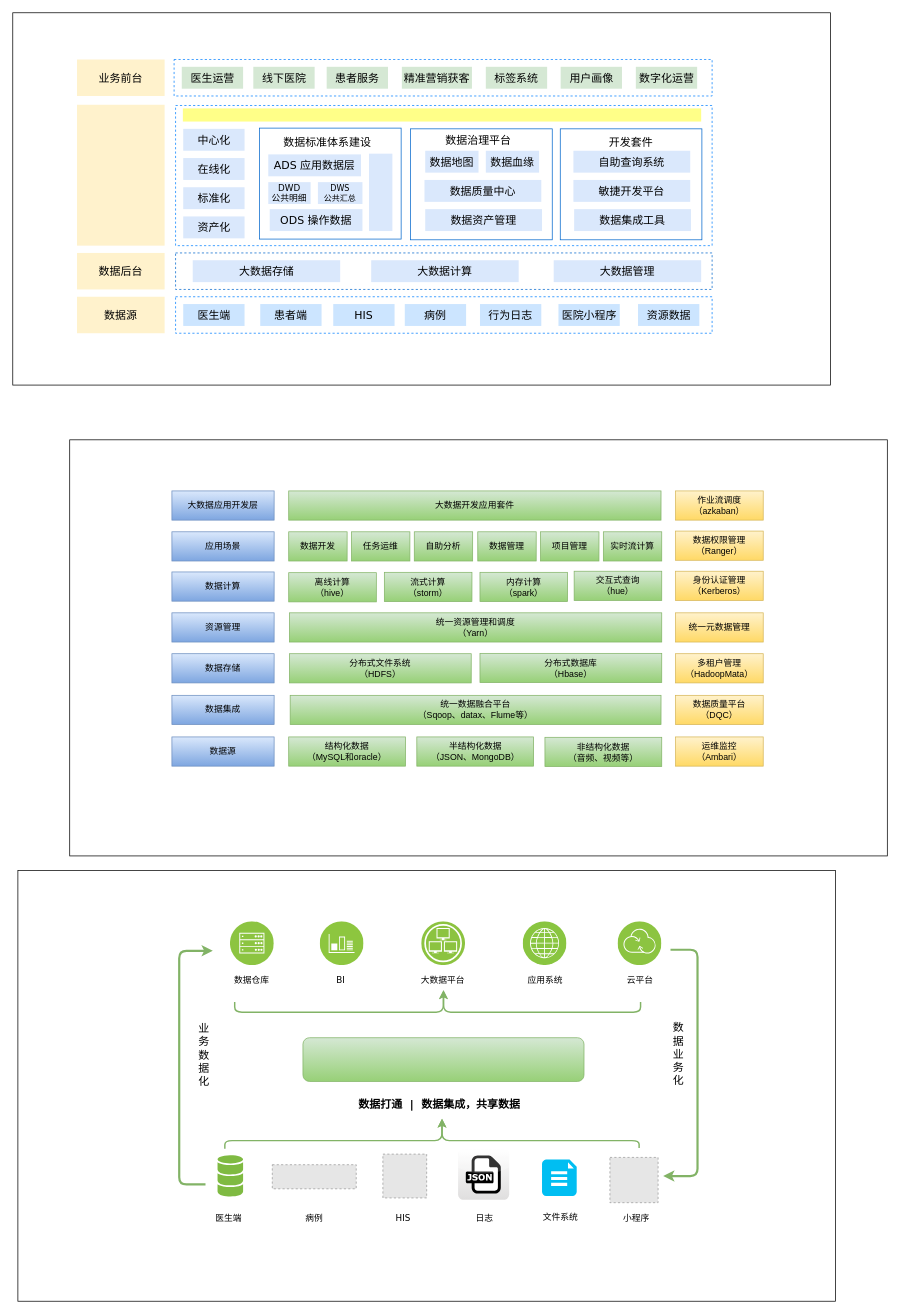
Image size: 900x1314. Some labels were removed from this diagram. Grey dashed boxes stand in for pictures. The shapes that lost their labels are listed below. From the top down, each one's centre as x and y in pixels, then its label:
At point (441, 114): "OneService | 统一数据服务".
At point (120, 174): "数据中台".
At point (380, 192): "指标系统".
At point (443, 1059): "Data Integration | 数据融合平台".
